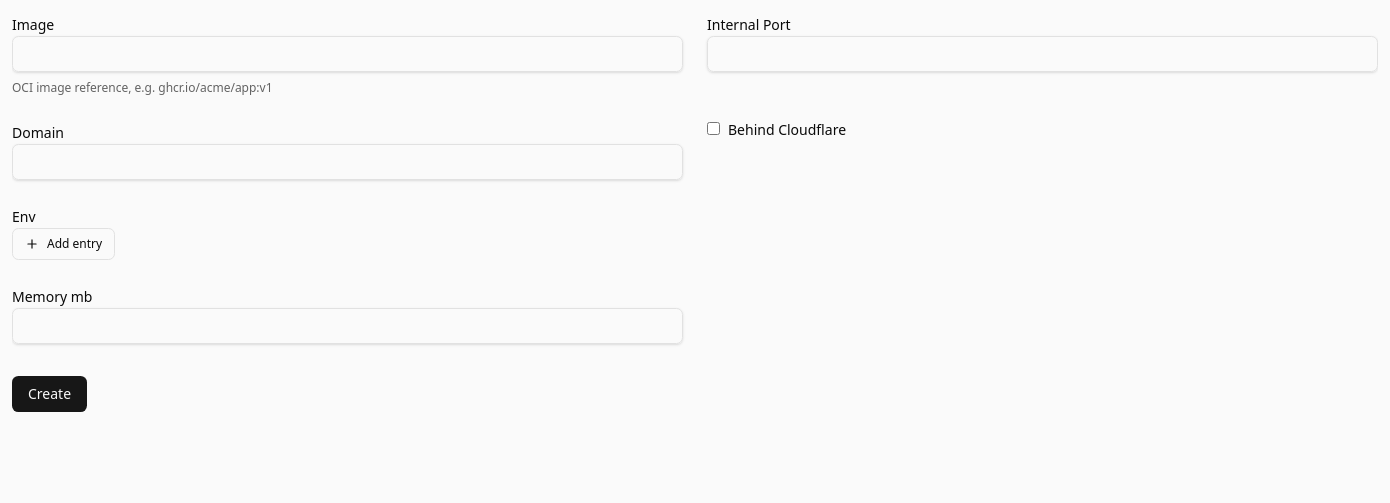
SchemaForm › rejects map rows without a key and duplicate keys
In the field labelled "Image": (348, 54) left=12, top=36, right=683, bottom=72, type "nginx:1.27"
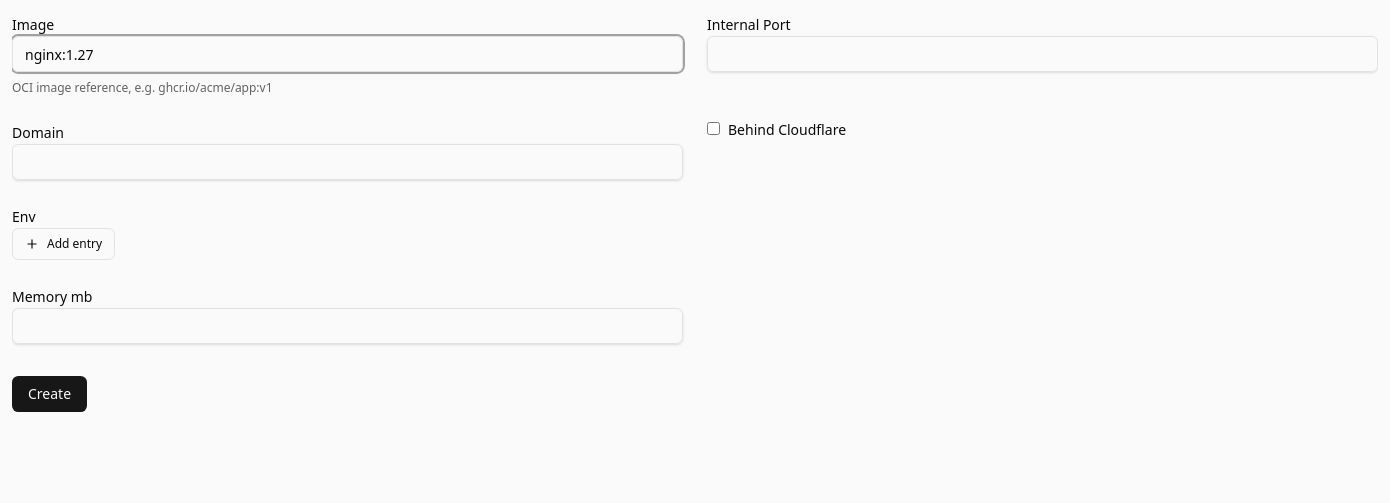
In the number field labelled "Internal Port": (1042, 54) left=707, top=36, right=1378, bottom=72, type "80"
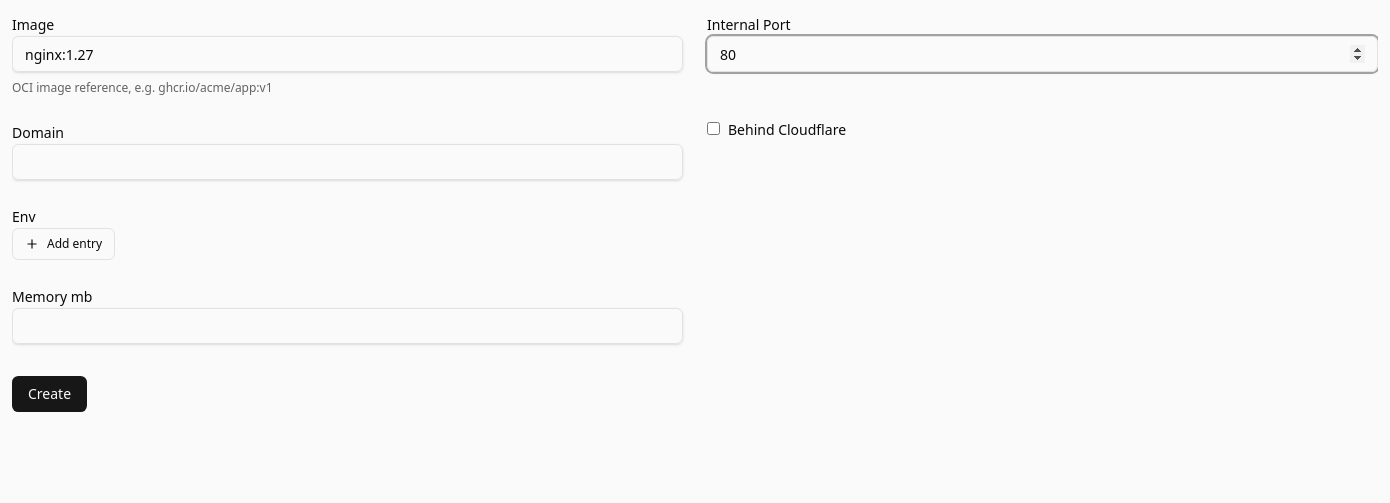
Click the button "Add entry": (64, 244) left=12, top=228, right=115, bottom=260
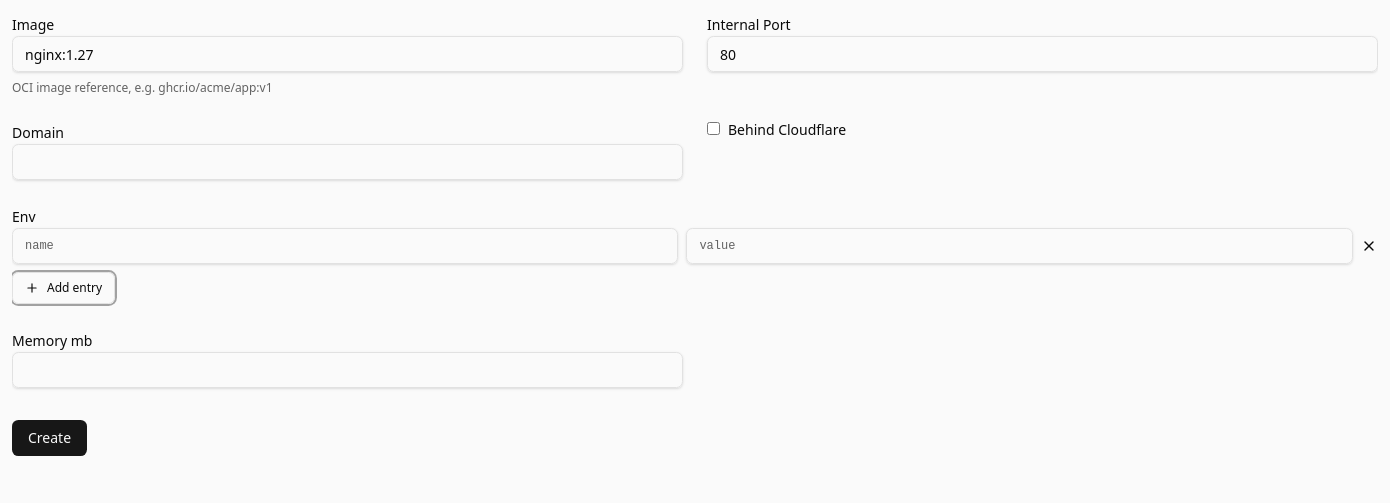
In the field named "env value 1": (1020, 246) left=686, top=228, right=1353, bottom=264, type "orphan"
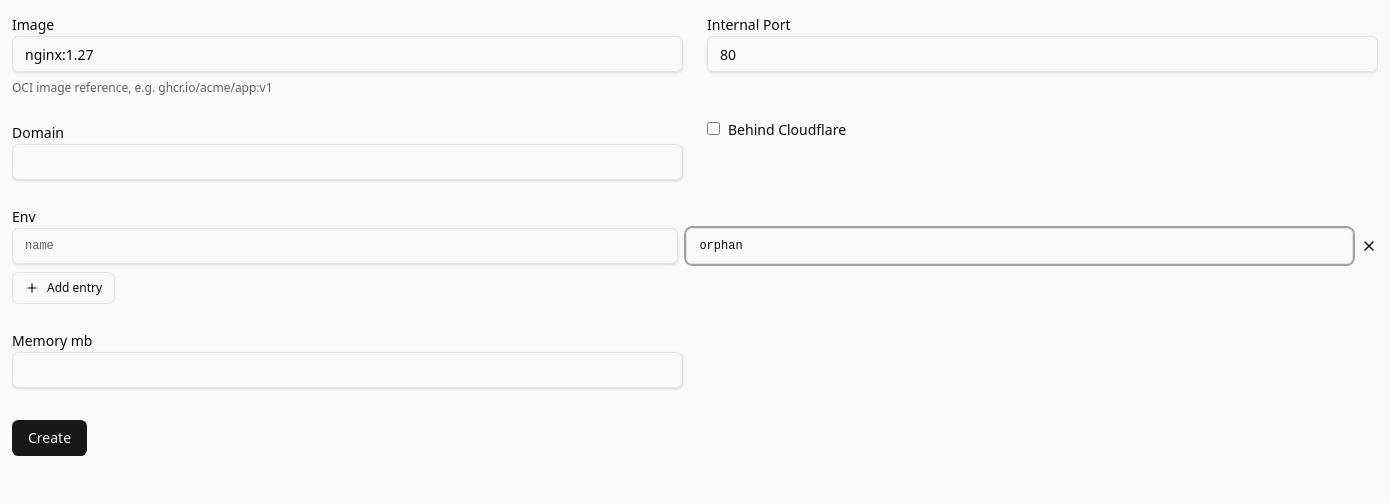
Click the button "Create": (50, 438) left=12, top=420, right=87, bottom=456
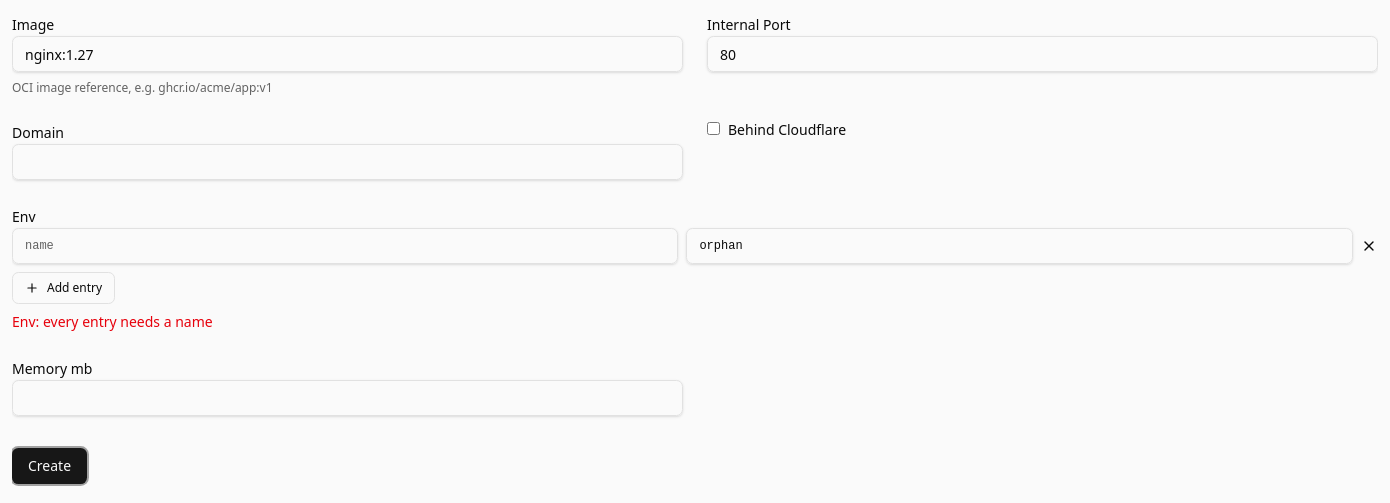
Result: the text "Env: every entry needs a name" is shown at left=12, top=312, right=213, bottom=331
